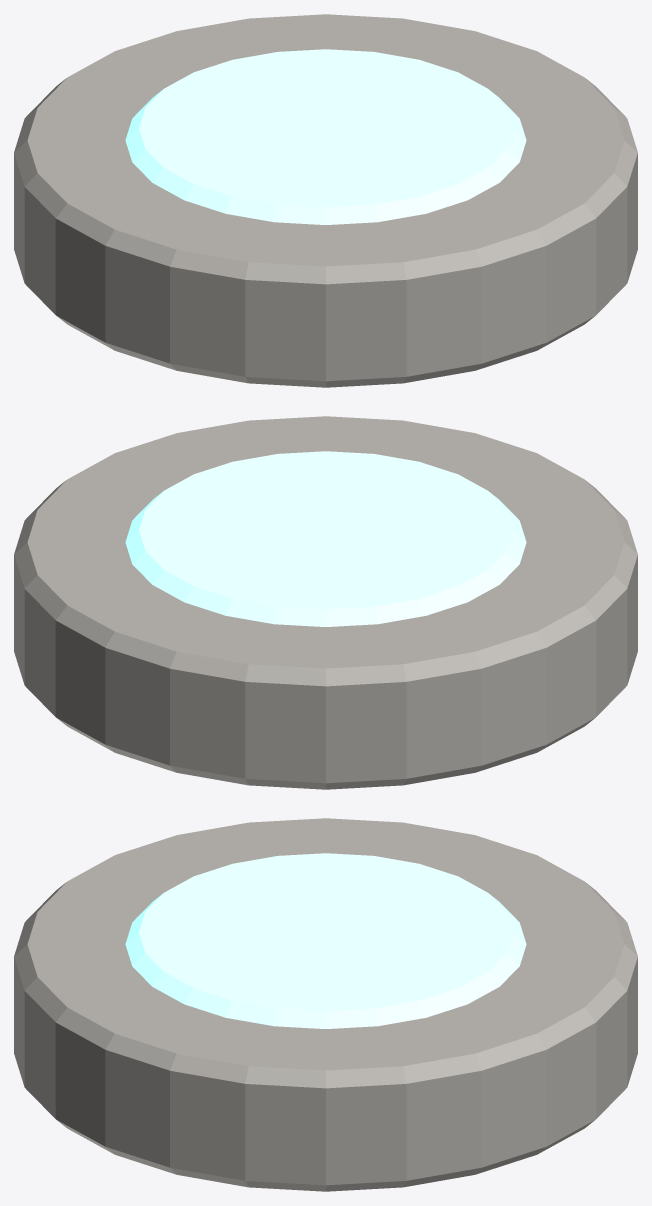
The model's file is 발광코어.glb.
The picture shows the model from 3 angles, top to bottom: view 1: azimuth 30°, elevation 25°; view 2: azimuth 150°, elevation 25°; view 3: azimuth 270°, elevation 25°; orthographic projection.
Visible parts, largest first — view 1: 발광코어; view 2: 발광코어; view 3: 발광코어.
Boxes of the visible parts, box(x1,y1,x2,y2) form: 발광코어: box(14, 14, 637, 387); 발광코어: box(14, 416, 637, 789); 발광코어: box(14, 818, 637, 1191).
Bounding box in the file's own units: 1.4 × 0.33 × 1.4.
